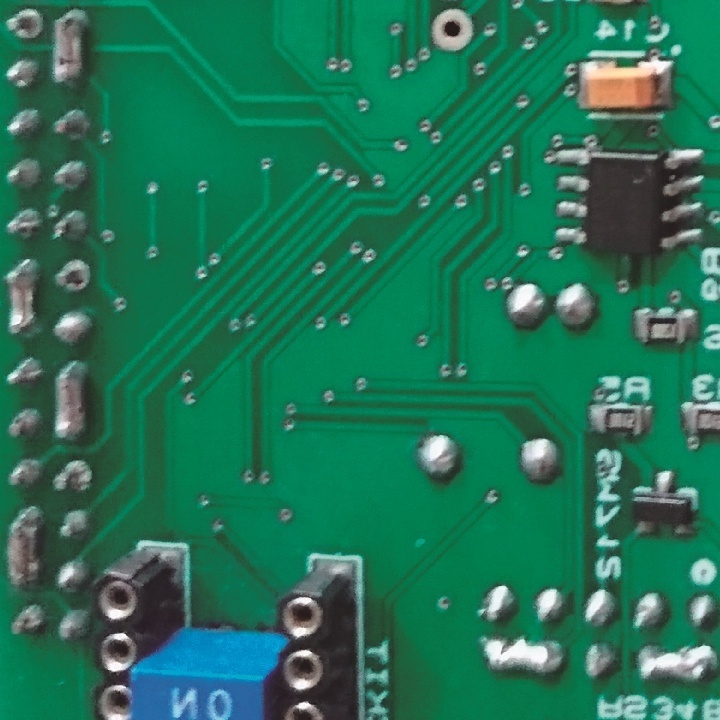F: (429, 6, 476, 55), (50, 453, 94, 502), (52, 257, 96, 298), (3, 4, 46, 43)
P: (481, 635, 570, 679), (47, 9, 92, 92), (1, 255, 42, 344), (633, 640, 720, 681), (51, 360, 87, 441), (7, 505, 41, 588)
